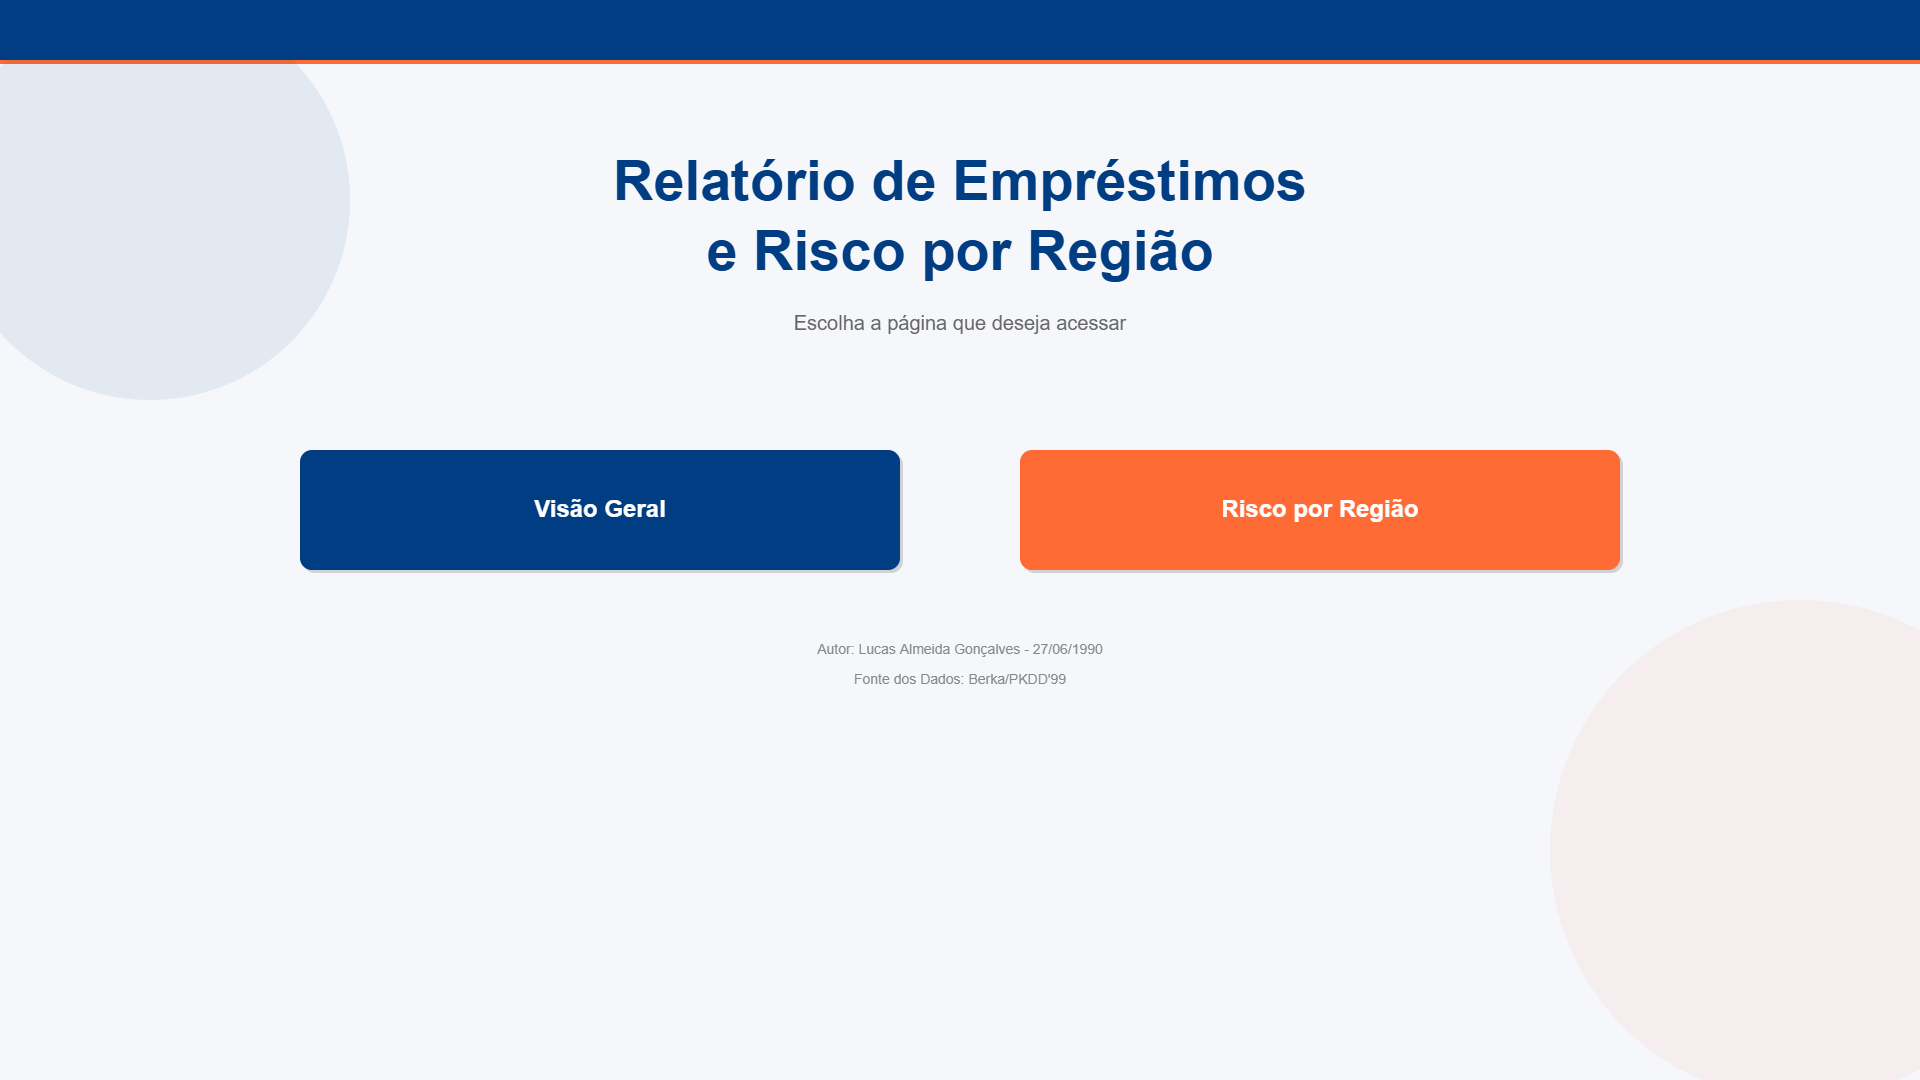

Layout of this report page (visuals, bound fields, positions):
{"tool":"powerbi","page":{"name":"Início","canvas":[1280,720],"ordinal":0},"visuals":[{"type":"shape","box":[207,303,387,70],"z":0},{"type":"shape","box":[690,303,387,70],"z":1000},{"type":"image","box":[1209,3,64,32],"z":2000}]}

Visuals, with their boxes in screenshot pixels (x1, y1, x2, y2), scaled from the page's 1280x720 canvas onto the 1920x1080 screenshot:
shape: pyautogui.locateOnScreen(310, 454, 891, 560)
shape: pyautogui.locateOnScreen(1035, 454, 1616, 560)
image: pyautogui.locateOnScreen(1814, 4, 1910, 52)
